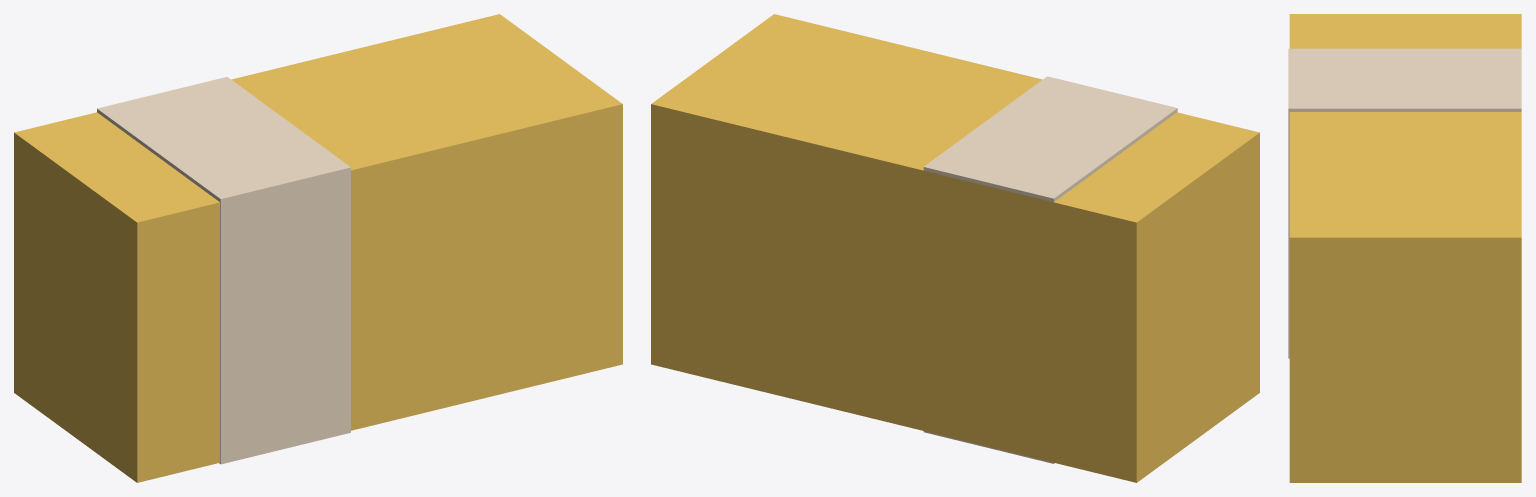
Rendered from Package.glb.
3 views of the same model, side by side, from view 1: azimuth 30°, elevation 25°; view 2: azimuth 150°, elevation 25°; view 3: azimuth 270°, elevation 25° (orthographic). The views are drawn at different scales.
Parts seen in each view (by area): view 1: group_0_15308573, group_0_14860437; view 2: group_0_15308573, group_0_14860437; view 3: group_0_15308573, group_0_14860437.
Part boxes in pixels (x1=…): group_0_15308573: x1=14, y1=14, x2=622, y2=482; group_0_14860437: x1=97, y1=77, x2=350, y2=464; group_0_15308573: x1=651, y1=14, x2=1259, y2=482; group_0_14860437: x1=923, y1=76, x2=1177, y2=463; group_0_15308573: x1=1289, y1=14, x2=1521, y2=482; group_0_14860437: x1=1288, y1=48, x2=1521, y2=358.
Size of the model in its own units: 41 by 21.4 by 18.1.
